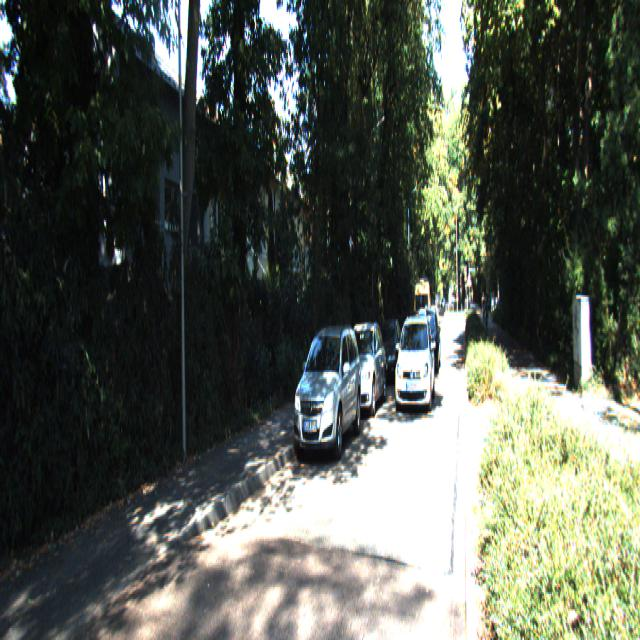Car: (290, 319, 360, 468), (336, 318, 386, 418), (393, 316, 437, 418), (375, 317, 405, 386), (415, 307, 441, 374), (413, 276, 431, 345), (406, 307, 424, 353)
